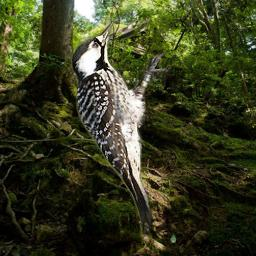Woodpecker: (71, 21, 171, 237)
